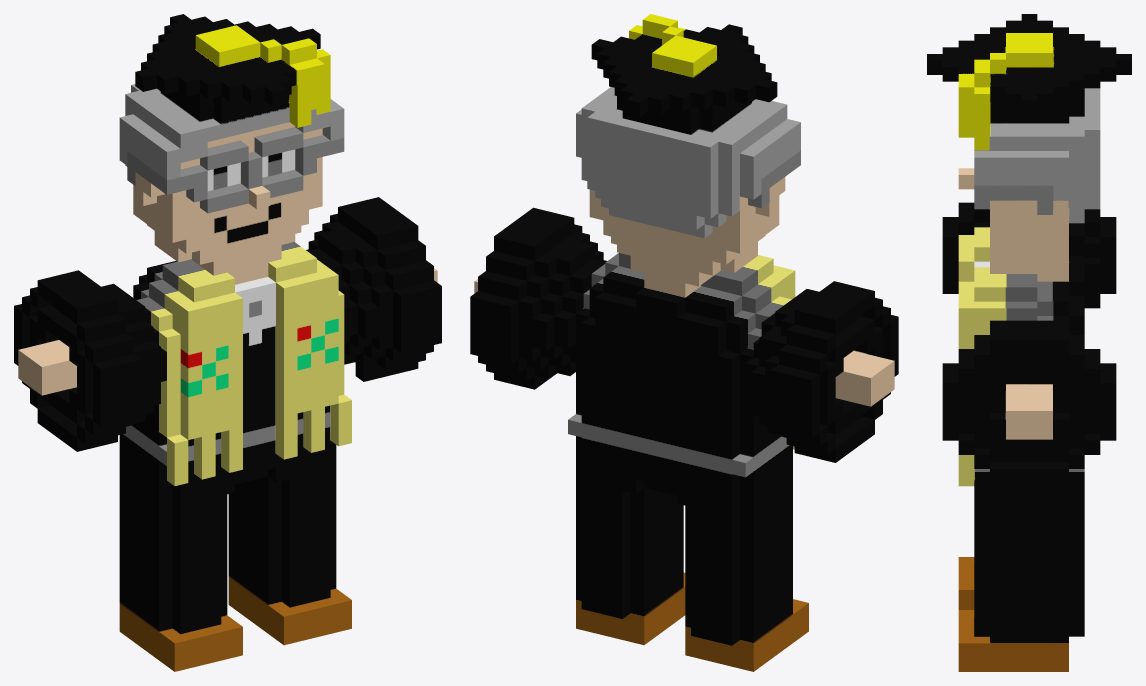
File: gakutyou.glb
The picture shows the model from 3 angles, left to right: view 1: azimuth 30°, elevation 25°; view 2: azimuth 150°, elevation 25°; view 3: azimuth 270°, elevation 25°; orthographic projection.
Visible parts, largest first — view 1: gakutyou-Head, gakutyou-Spine, gakutyou-RightArm, gakutyou-RightLeg, gakutyou-LeftLeg, gakutyou-LeftArm; view 2: gakutyou-Head, gakutyou-Spine, gakutyou-RightArm, gakutyou-RightLeg, gakutyou-LeftArm, gakutyou-LeftLeg; view 3: gakutyou-Head, gakutyou-LeftArm, gakutyou-LeftLeg, gakutyou-Spine, gakutyou-RightArm, gakutyou-RightLeg.
Boxes of the visible parts, x1,y1,x2,y2 form: gakutyou-Head: [119, 14, 344, 284]; gakutyou-Spine: [119, 242, 351, 505]; gakutyou-RightArm: [14, 270, 166, 451]; gakutyou-RightLeg: [119, 475, 242, 671]; gakutyou-LeftLeg: [228, 460, 351, 645]; gakutyou-LeftArm: [306, 197, 441, 381]; gakutyou-Head: [576, 14, 800, 297]; gakutyou-Spine: [568, 253, 795, 516]; gakutyou-RightArm: [745, 281, 898, 462]; gakutyou-RightLeg: [685, 486, 808, 671]; gakutyou-LeftArm: [470, 207, 606, 389]; gakutyou-LeftLeg: [576, 471, 685, 644]; gakutyou-Head: [927, 14, 1131, 281]; gakutyou-LeftArm: [942, 320, 1116, 483]; gakutyou-LeftLeg: [958, 508, 1084, 671]; gakutyou-Spine: [958, 227, 1084, 514]; gakutyou-RightArm: [942, 202, 1116, 308]; gakutyou-RightLeg: [958, 557, 974, 609].
Bounding box in the file's own units: 0.5801 × 0.8201 × 0.26.
Materials: 6 (6 with a texture image).
